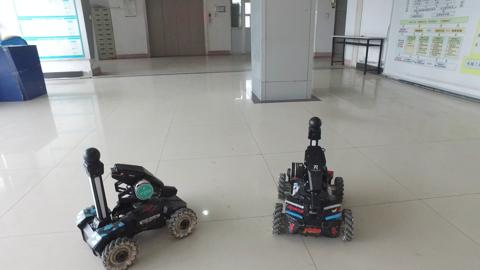chariot: (65, 147, 201, 270), (271, 115, 361, 247)
